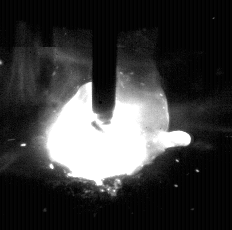arame: (93, 0, 117, 124)
poca: (46, 0, 168, 230)
